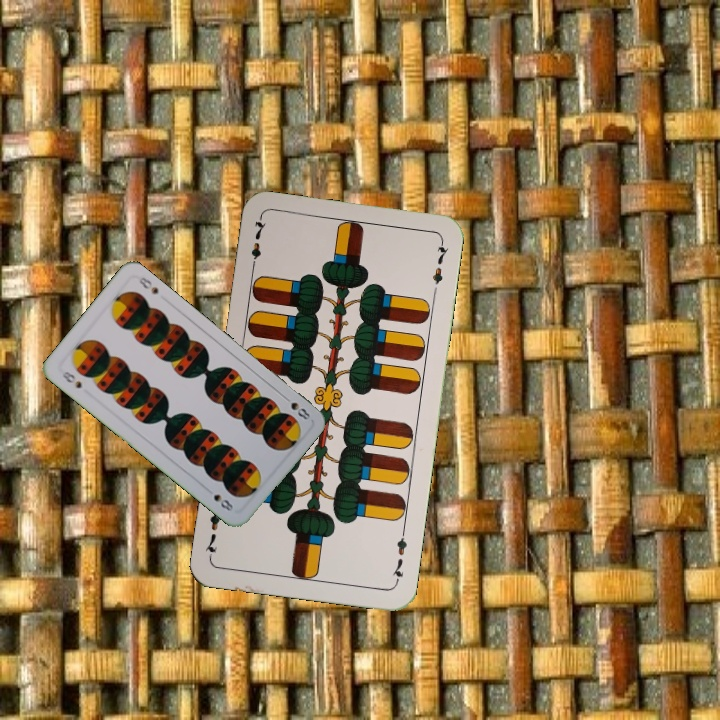E7: (247, 215, 269, 274), (388, 527, 409, 586)
S8: (286, 398, 313, 423), (58, 367, 84, 391)
